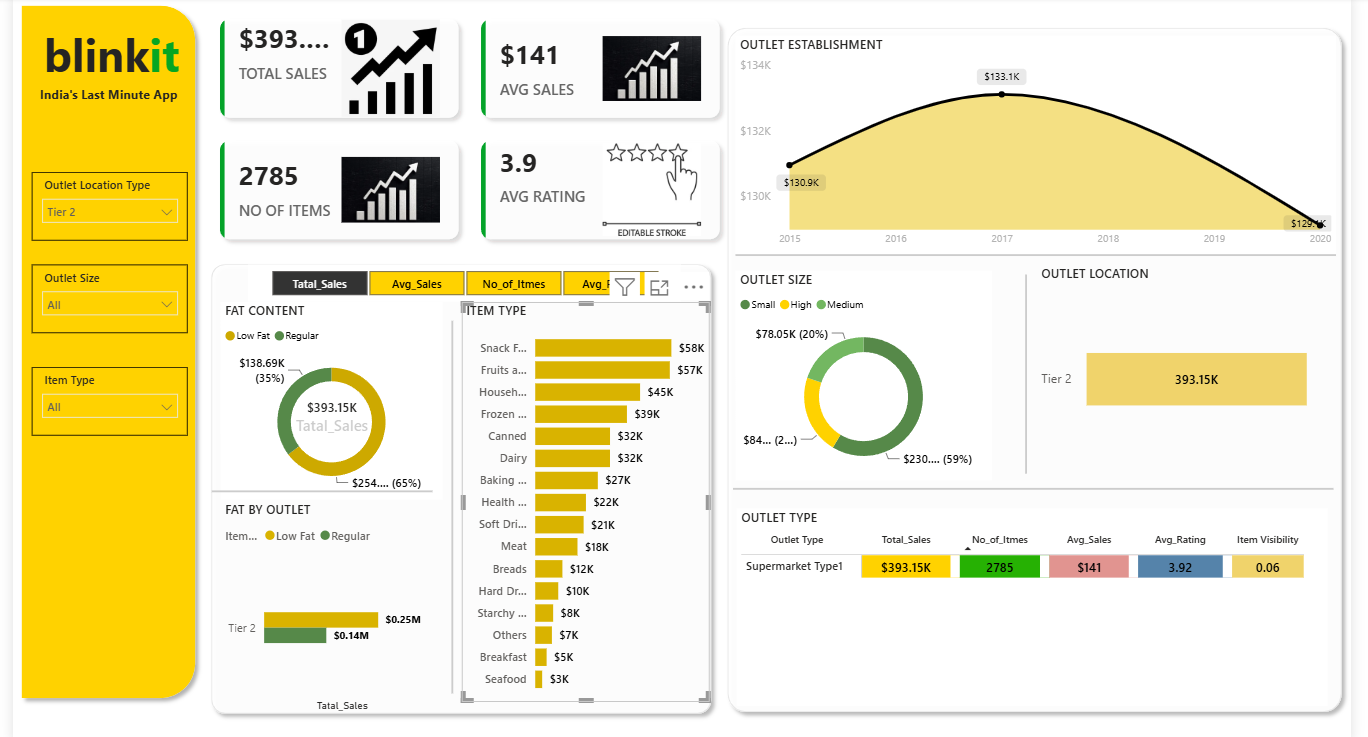

What the dashboard file says about the page in this screenshot:
{"tool":"powerbi","page":{"name":"Page 1","canvas":[1434,800],"ordinal":0},"visuals":[{"type":"shape","box":[0,0,204.5,761],"z":0},{"type":"textbox","box":[27.7,24.6,167.6,75.3],"z":1000},{"type":"textbox","box":[23.1,89.2,159.9,52.3],"z":2000},{"type":"cardVisual","fields":{"Data":["BlinkIT Grocery Data.Tatal_Sales","BlinkIT Grocery Data.Avg_Sales","BlinkIT Grocery Data.No_of_Itmes","BlinkIT Grocery Data.Avg_Rating"]},"box":[204.5,6.1,570.3,270.6],"z":3000},{"type":"shape","box":[204,277,554,500],"z":4000},{"type":"donutChart","title":"FAT CONTENT","fields":{"Y":["BlinkIT Grocery Data.Total_Sales"],"Category":["BlinkIT Grocery Data.Item Fat Content"]},"box":[222.9,327.4,238.3,212.1],"z":5000},{"type":"slicer","fields":{"Values":["Metrics.Metrics"]},"box":[252.1,287.5,464.3,40],"z":6000},{"type":"cardVisual","fields":{"Data":["BlinkIT Grocery Data.Total_Sales"]},"box":[276.7,399.7,132.2,101.5],"z":7000},{"type":"clusteredBarChart","title":"FAT BY OUTLET","fields":{"Y":["BlinkIT Grocery Data.Total_Sales"],"Category":["BlinkIT Grocery Data.Outlet Location Type"],"Series":["BlinkIT Grocery Data.Item Fat Content"]},"box":[222.9,539.6,219.8,230.6],"z":8000},{"type":"shape","box":[213.7,515,236.7,30.7],"z":9000},{"type":"shape","box":[461.2,347.4,20,399.7],"z":10000},{"type":"barChart","title":"ITEM TYPE","fields":{"Y":["BlinkIT Grocery Data.Total_Sales"],"Category":["BlinkIT Grocery Data.Item Type"]},"box":[481.2,327.4,266,428.9],"z":11000},{"type":"shape","box":[757.9,24.6,676.4,751.7],"z":12000},{"type":"lineChart","title":"OUTLET ESTABLISHMENT","fields":{"Y":["BlinkIT Grocery Data.Total_Sales"],"Category":["BlinkIT Grocery Data.Outlet Establishment Year"]},"box":[774.8,41.5,644.1,235.2],"z":13000},{"type":"shape","box":[774.8,261.3,644.1,30.7],"z":14000},{"type":"donutChart","title":"OUTLET SIZE","fields":{"Y":["BlinkIT Grocery Data.Total_Sales"],"Category":["BlinkIT Grocery Data.Outlet Size"]},"box":[774.8,293.6,275,225],"z":15000},{"type":"shape","box":[1076.1,298.2,20,213.7],"z":16000},{"type":"funnel","title":"OUTLET LOCATION","fields":{"Y":["Sum(BlinkIT Grocery Data.Sales)"],"Category":["BlinkIT Grocery Data.Outlet Location Type"]},"box":[1097.6,287.5,299.8,227.5],"z":17000},{"type":"shape","box":[771.7,511.9,644.1,30.7],"z":18000},{"type":"pivotTable","title":"OUTLET TYPE","fields":{"Rows":["BlinkIT Grocery Data.Outlet Type"],"Values":["BlinkIT Grocery Data.Total_Sales","BlinkIT Grocery Data.No_of_Itmes","BlinkIT Grocery Data.Avg_Sales","BlinkIT Grocery Data.Avg_Rating","Avg(BlinkIT Grocery Data.Item Visibility)"]},"box":[776.3,548.8,633.4,212.1],"z":19000},{"type":"slicer","fields":{"Values":["BlinkIT Grocery Data.Outlet Location Type"]},"box":[20,187.6,167.6,73.8],"z":20000},{"type":"slicer","fields":{"Values":["BlinkIT Grocery Data.Outlet Size"]},"box":[20,287.5,167.6,73.8],"z":21000},{"type":"slicer","fields":{"Values":["BlinkIT Grocery Data.Item Type"]},"box":[20,396.6,167.6,73.8],"z":22000}]}

Visuals, with their boxes on the page's 1434x800 design canvas (x1, y1, x2, y2). These are canvas units, not pixel positions in the 1368x737 screenshot, which may show the page scaled, cropped or inside an application window:
shape: left=0, top=0, right=204, bottom=761
textbox: left=28, top=25, right=195, bottom=100
textbox: left=23, top=89, right=183, bottom=142
cardVisual - BlinkIT Grocery Data.Tatal_Sales x BlinkIT Grocery Data.Avg_Sales: left=204, top=6, right=775, bottom=277
shape: left=204, top=277, right=758, bottom=777
"FAT CONTENT" donutChart: left=223, top=327, right=461, bottom=540
slicer - Metrics.Metrics: left=252, top=288, right=716, bottom=328
cardVisual - BlinkIT Grocery Data.Total_Sales: left=277, top=400, right=409, bottom=501
"FAT BY OUTLET" clusteredBarChart: left=223, top=540, right=443, bottom=770
shape: left=214, top=515, right=450, bottom=546
shape: left=461, top=347, right=481, bottom=747
"ITEM TYPE" barChart: left=481, top=327, right=747, bottom=756
shape: left=758, top=25, right=1434, bottom=776
"OUTLET ESTABLISHMENT" lineChart: left=775, top=42, right=1419, bottom=277
shape: left=775, top=261, right=1419, bottom=292
"OUTLET SIZE" donutChart: left=775, top=294, right=1050, bottom=519
shape: left=1076, top=298, right=1096, bottom=512
"OUTLET LOCATION" funnel: left=1098, top=288, right=1397, bottom=515
shape: left=772, top=512, right=1416, bottom=543
"OUTLET TYPE" pivotTable: left=776, top=549, right=1410, bottom=761
slicer - BlinkIT Grocery Data.Outlet Location Type: left=20, top=188, right=188, bottom=261
slicer - BlinkIT Grocery Data.Outlet Size: left=20, top=288, right=188, bottom=361
slicer - BlinkIT Grocery Data.Item Type: left=20, top=397, right=188, bottom=470
